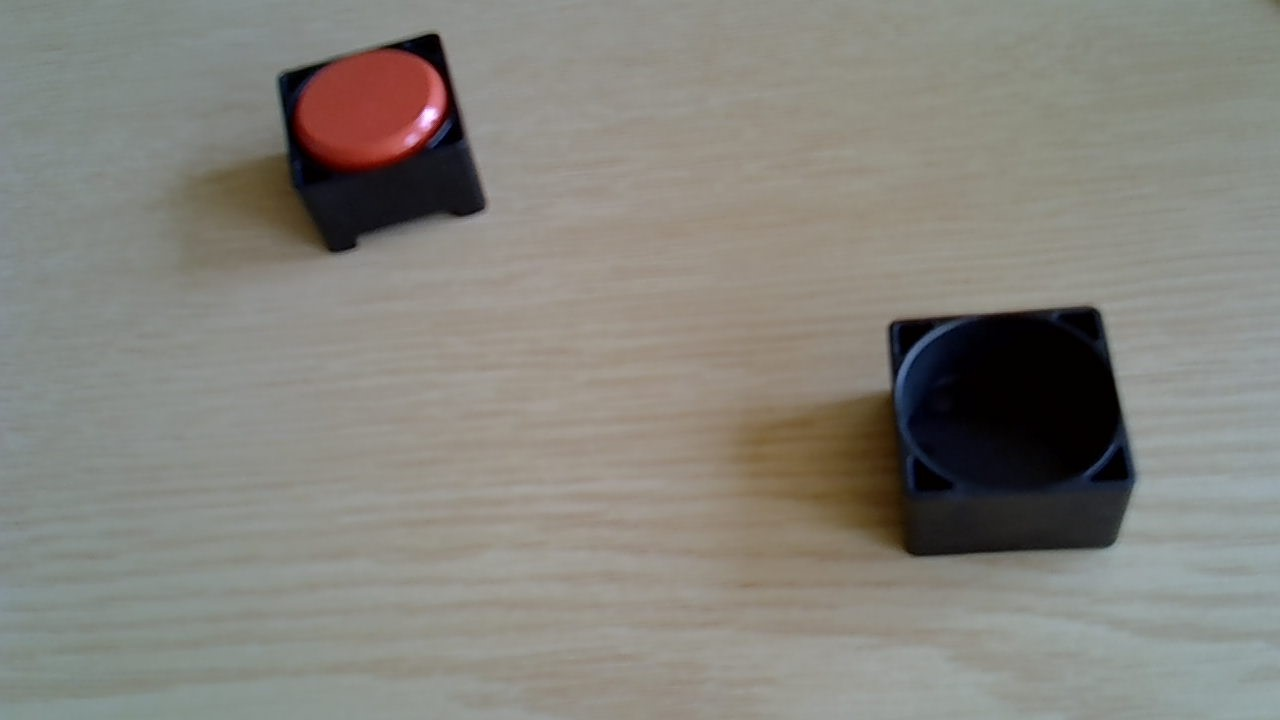Behaelter: (887, 304, 1134, 560), (276, 33, 491, 250)
WerkStueck: (299, 54, 443, 168)
